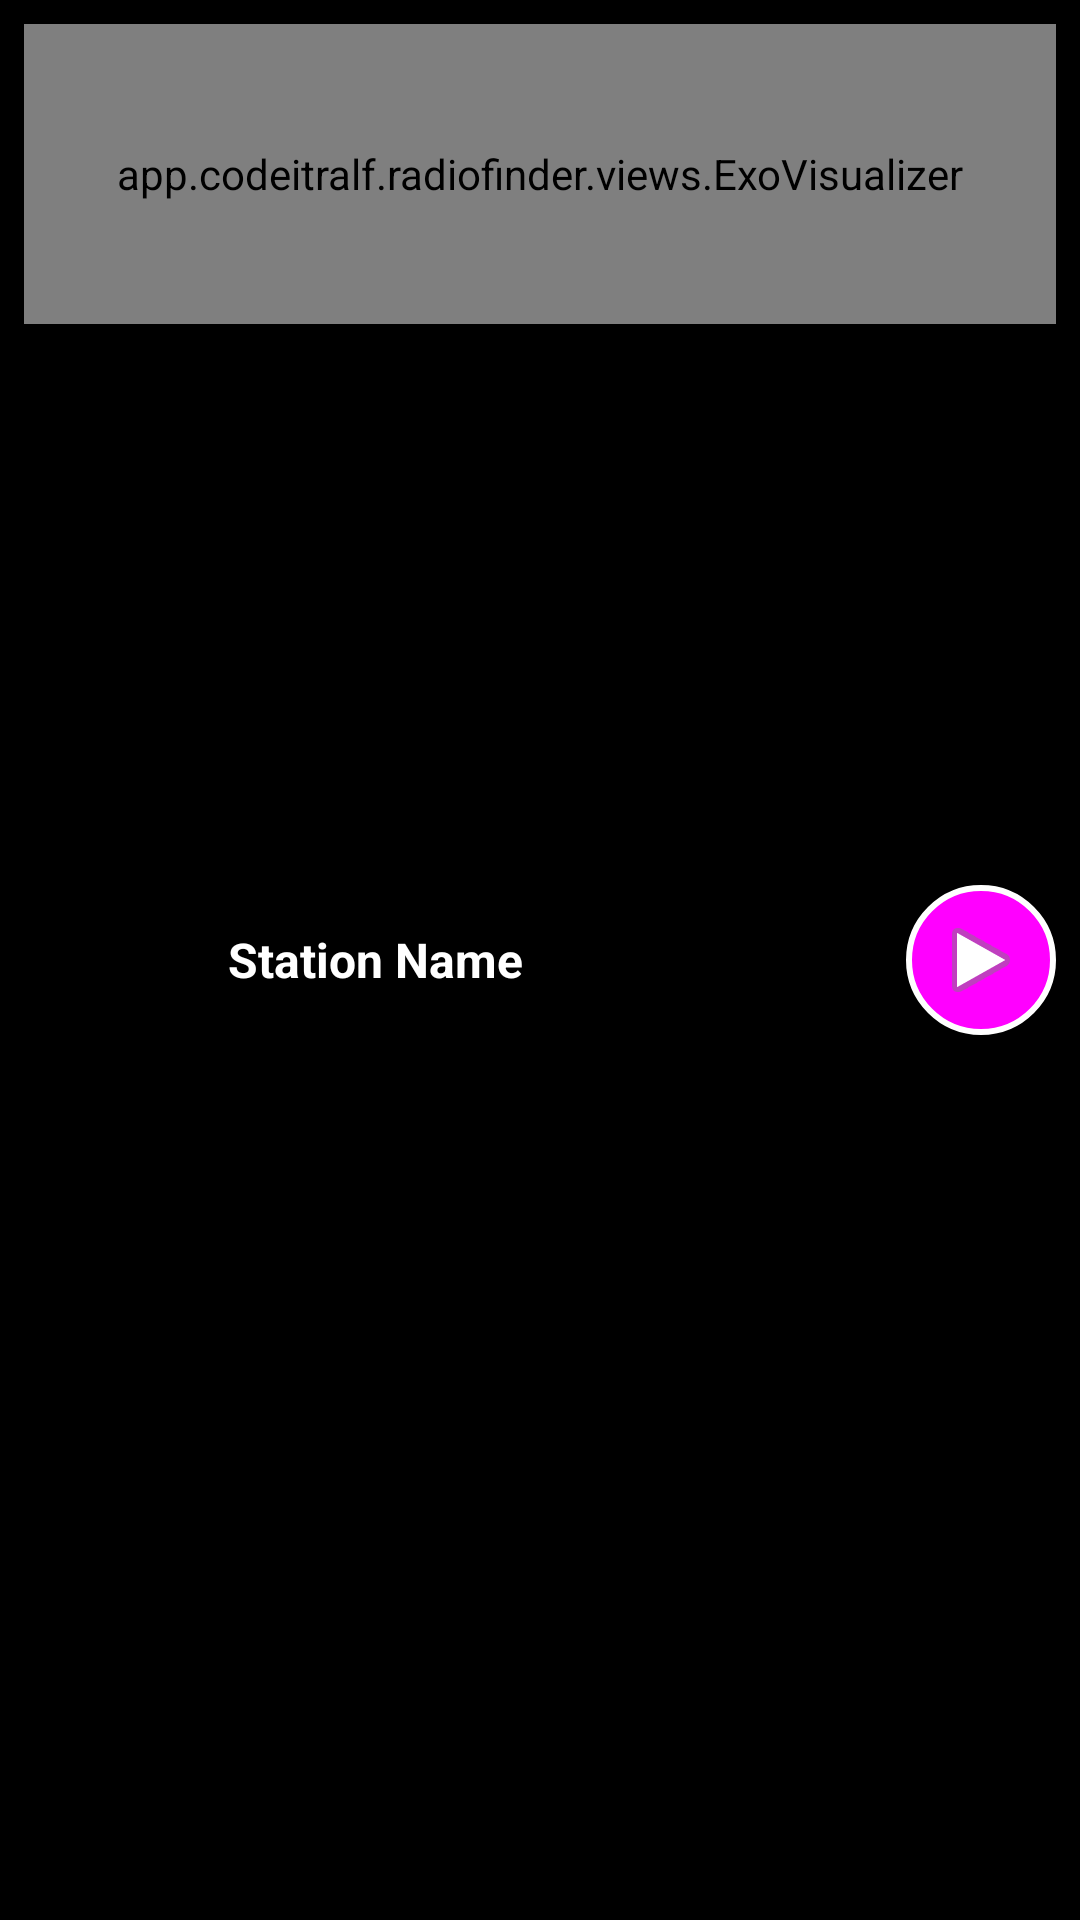

Icon bounding boxes for this 1080*1920 phone screenshot, format bbox=(x1, y1, x2, y2):
play: bbox=(906, 885, 1056, 1035)
